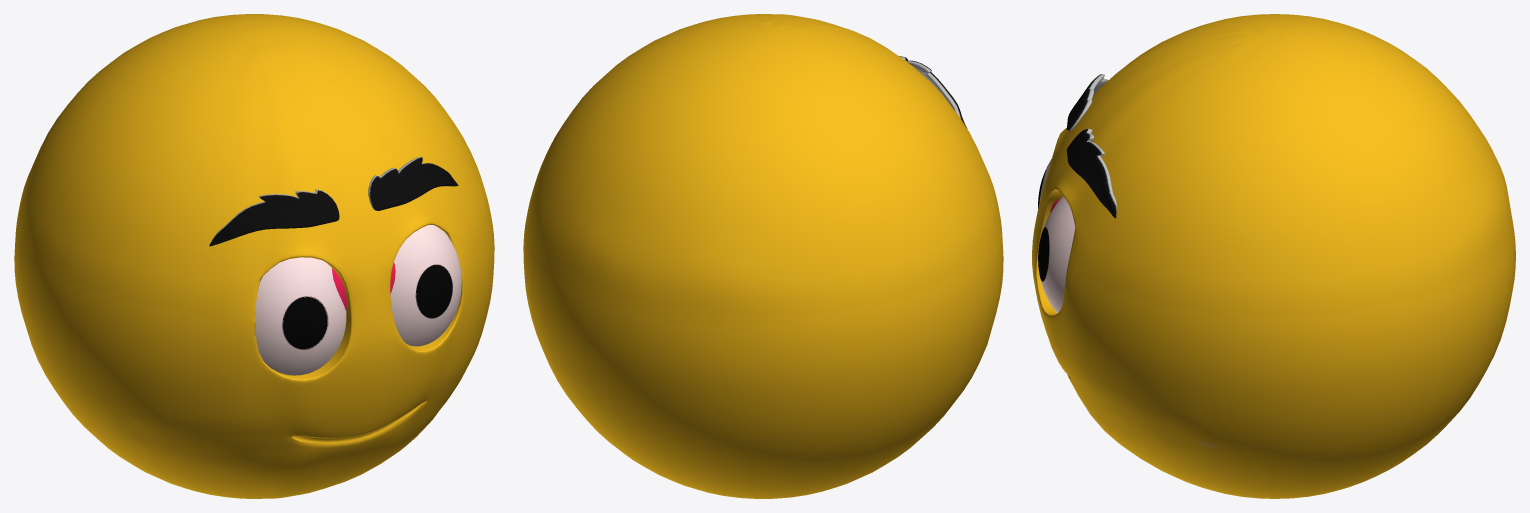
File: kiss_000007.obj
3 renders of one model, left to right at view 1: azimuth 30°, elevation 25°; view 2: azimuth 150°, elevation 25°; view 3: azimuth 270°, elevation 25°, orthographic.
Visible parts, largest first — view 1: Smiley_Untitled.004; view 2: Smiley_Untitled.004; view 3: Smiley_Untitled.004.
Part boxes in pixels (x1,y1,x2,y2): Smiley_Untitled.004: [14, 14, 494, 498]; Smiley_Untitled.004: [523, 14, 1003, 498]; Smiley_Untitled.004: [1032, 14, 1515, 498].
Size of the model in its own units: 0.0425 by 0.0431 by 0.0428.
